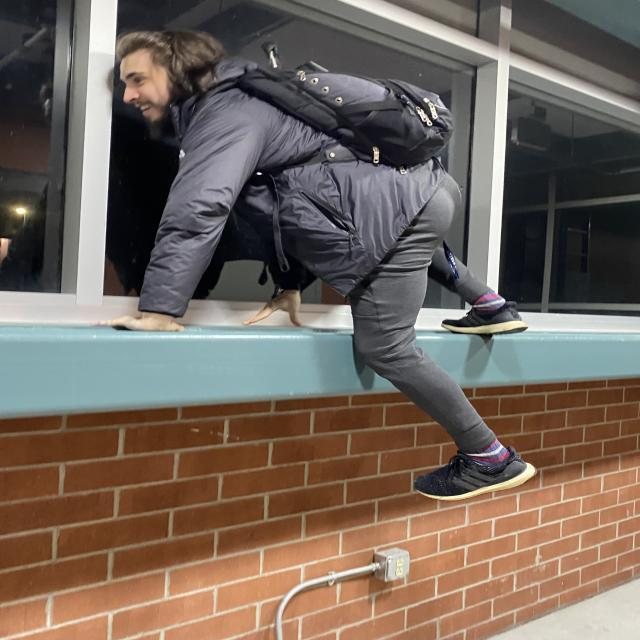Backpacks: (242, 44, 454, 170)
